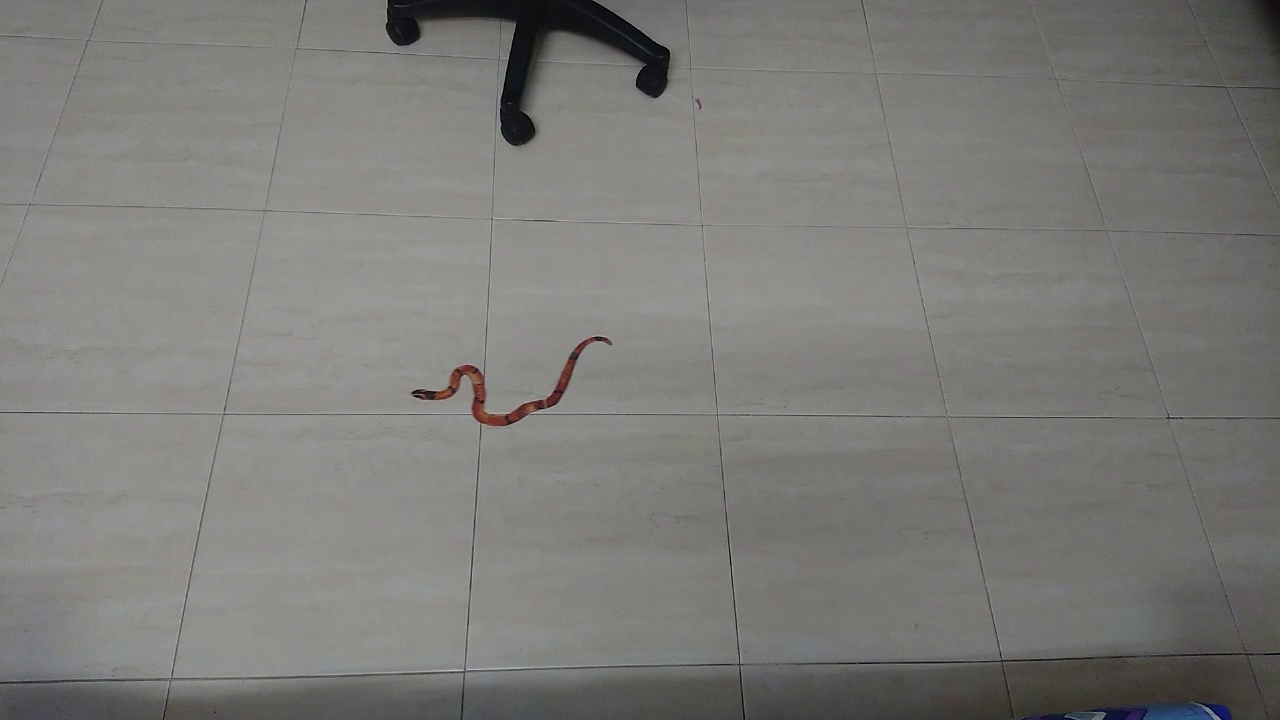snake: (394, 314, 629, 440)
